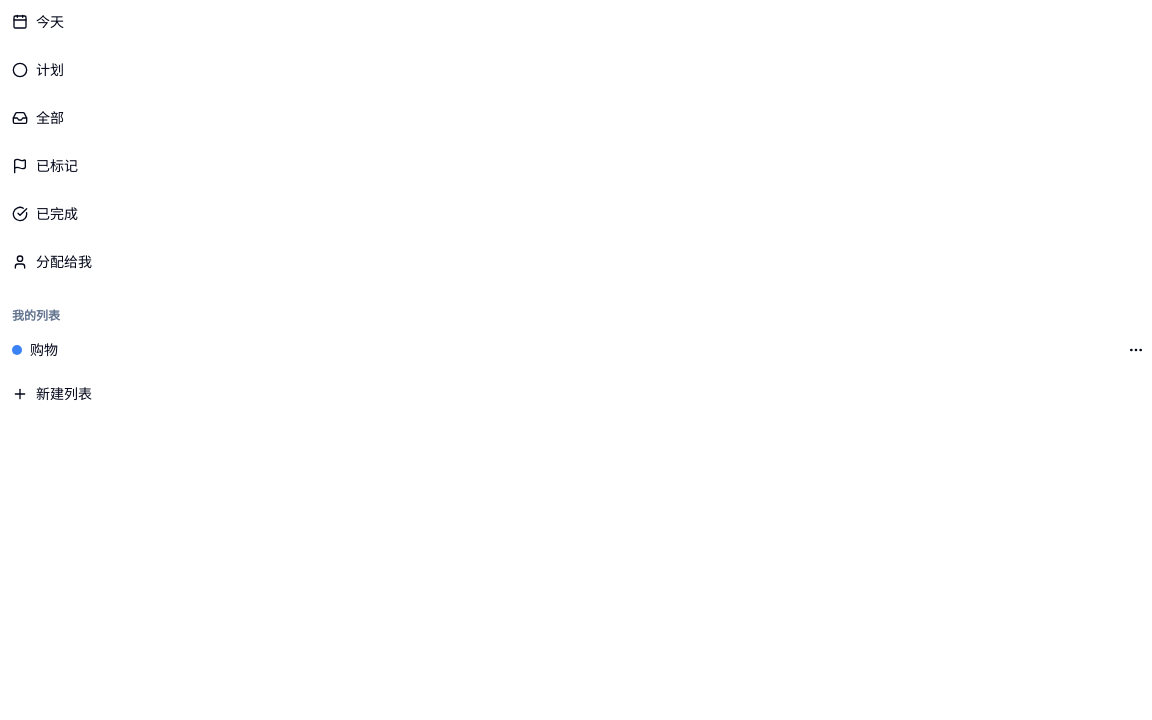
it: Sidebar › opens the delete confirmation dialog when delete is clicked
Click the button named "列表设置".
click(1136, 350)  # box x1=1120 y1=334 x2=1151 y2=366
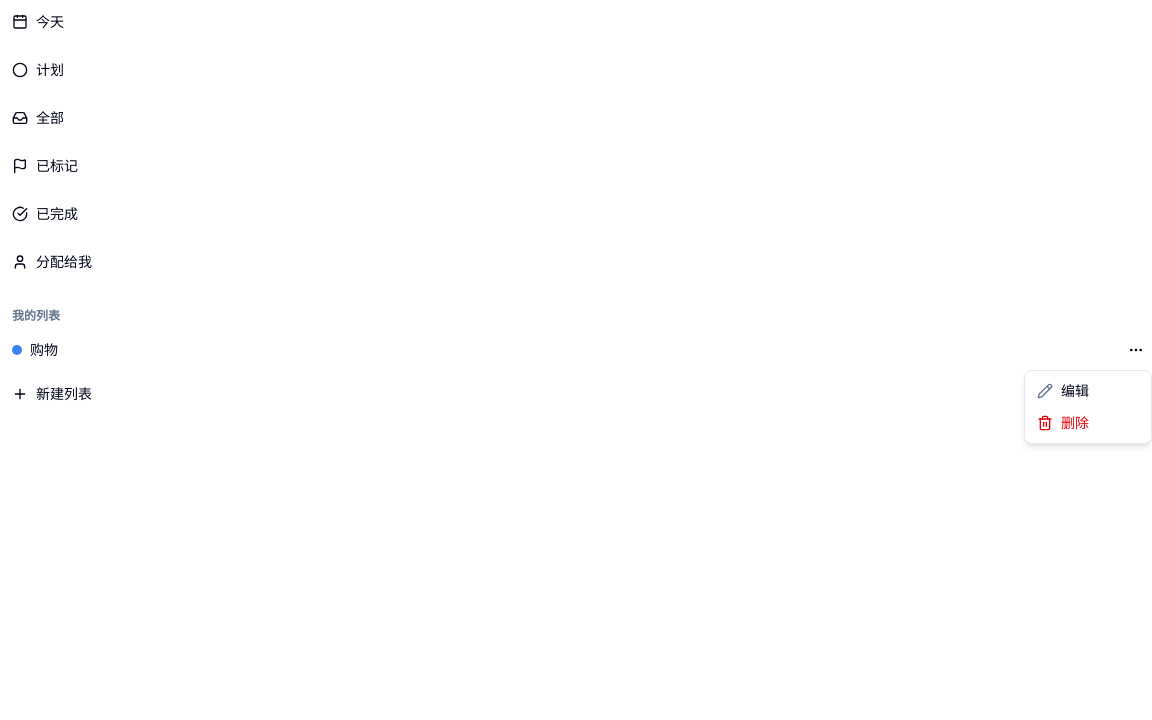
Click the menu item "删除".
click(1063, 422)  # box x1=1037 y1=413 x2=1089 y2=432
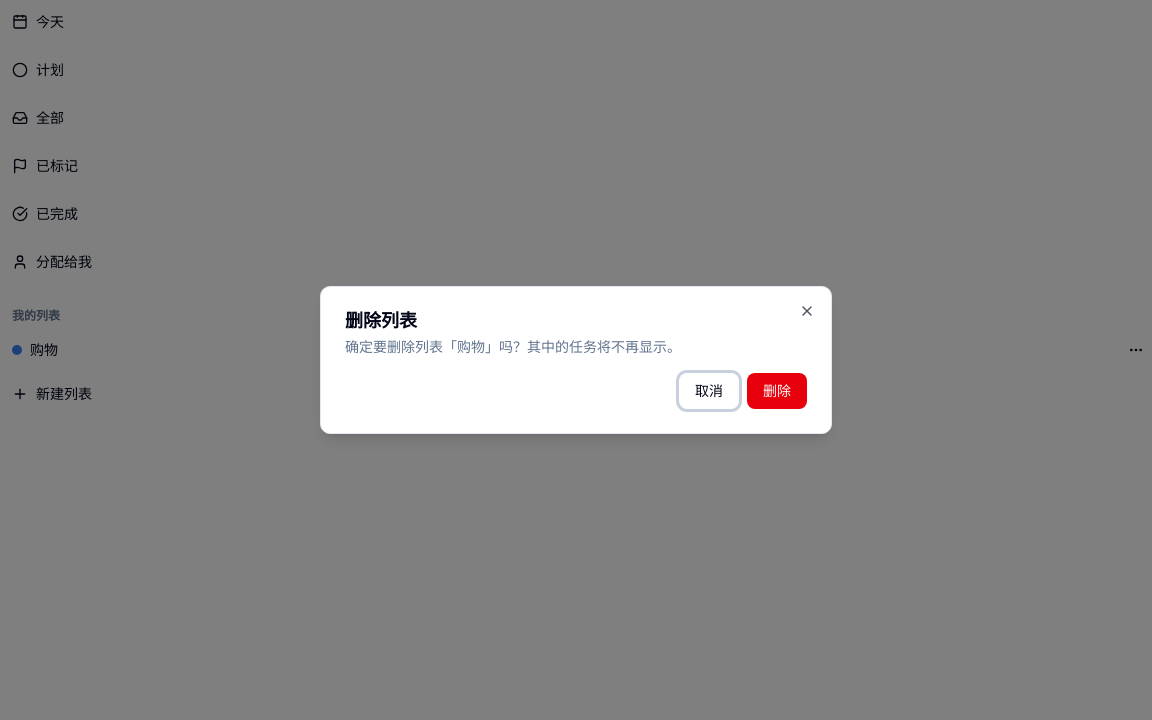
expect the heading "删除列表" is shown: met, box x1=345 y1=308 x2=417 y2=332
expect the dialog shows "购物": met, box x1=457 y1=337 x2=485 y2=356
